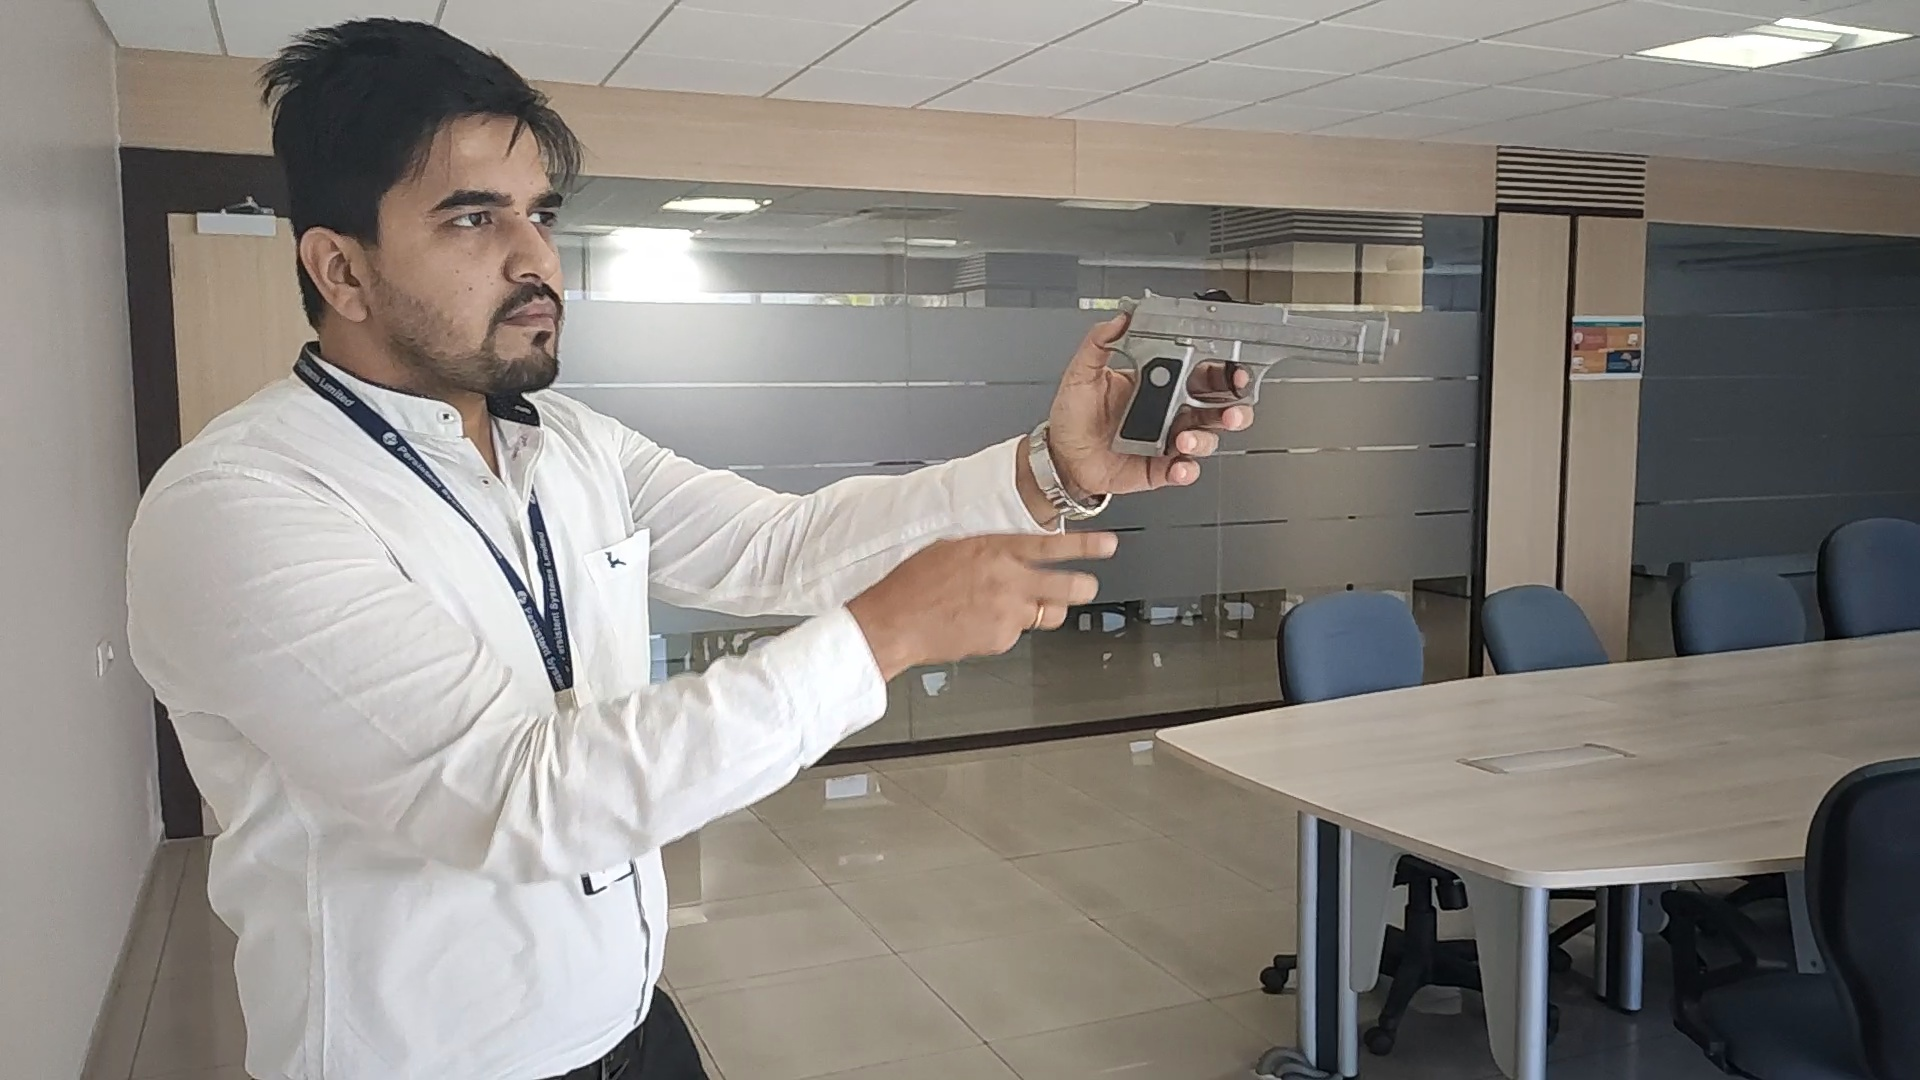gun: (1106, 289, 1400, 454)
